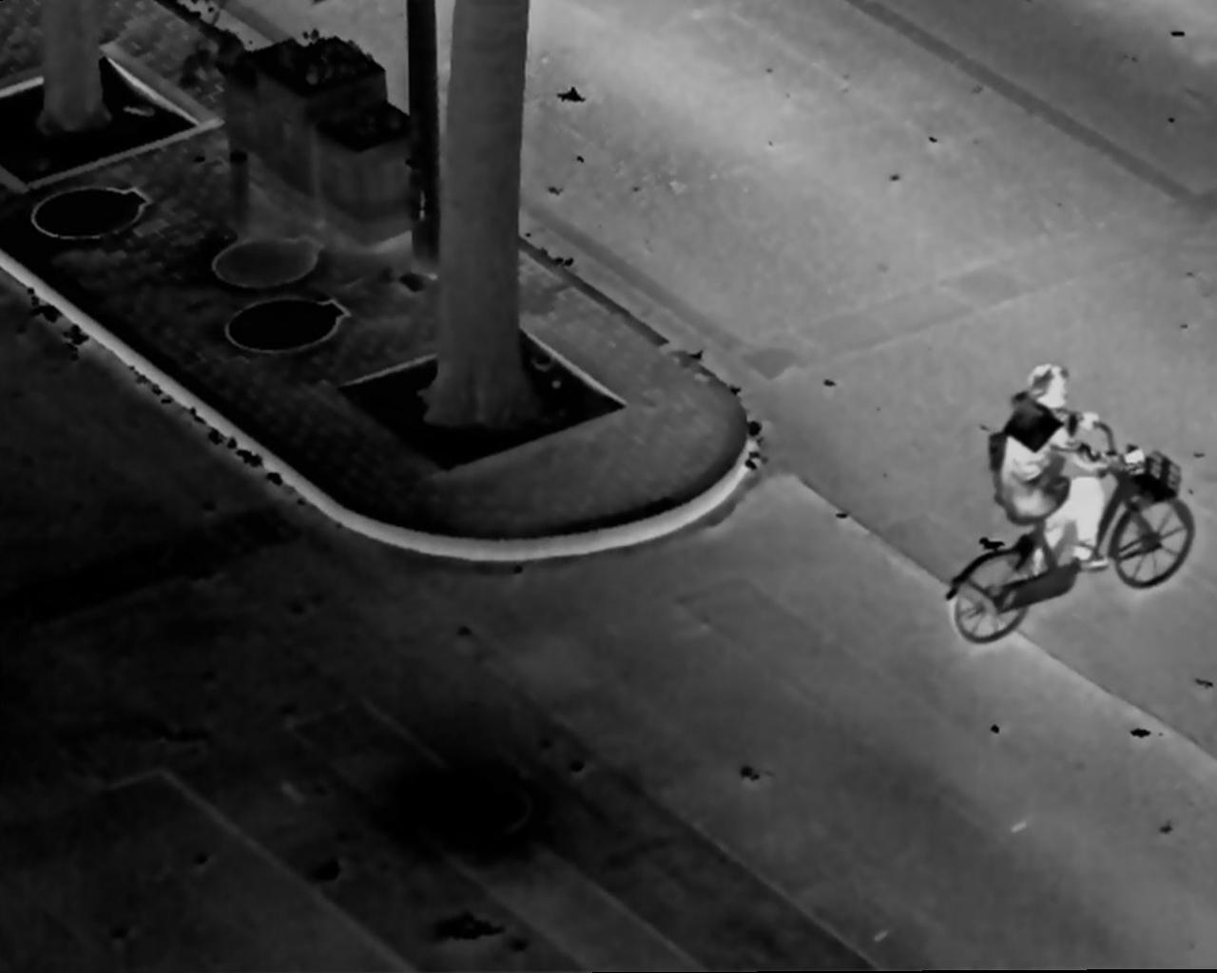person: (989, 363, 1119, 583)
